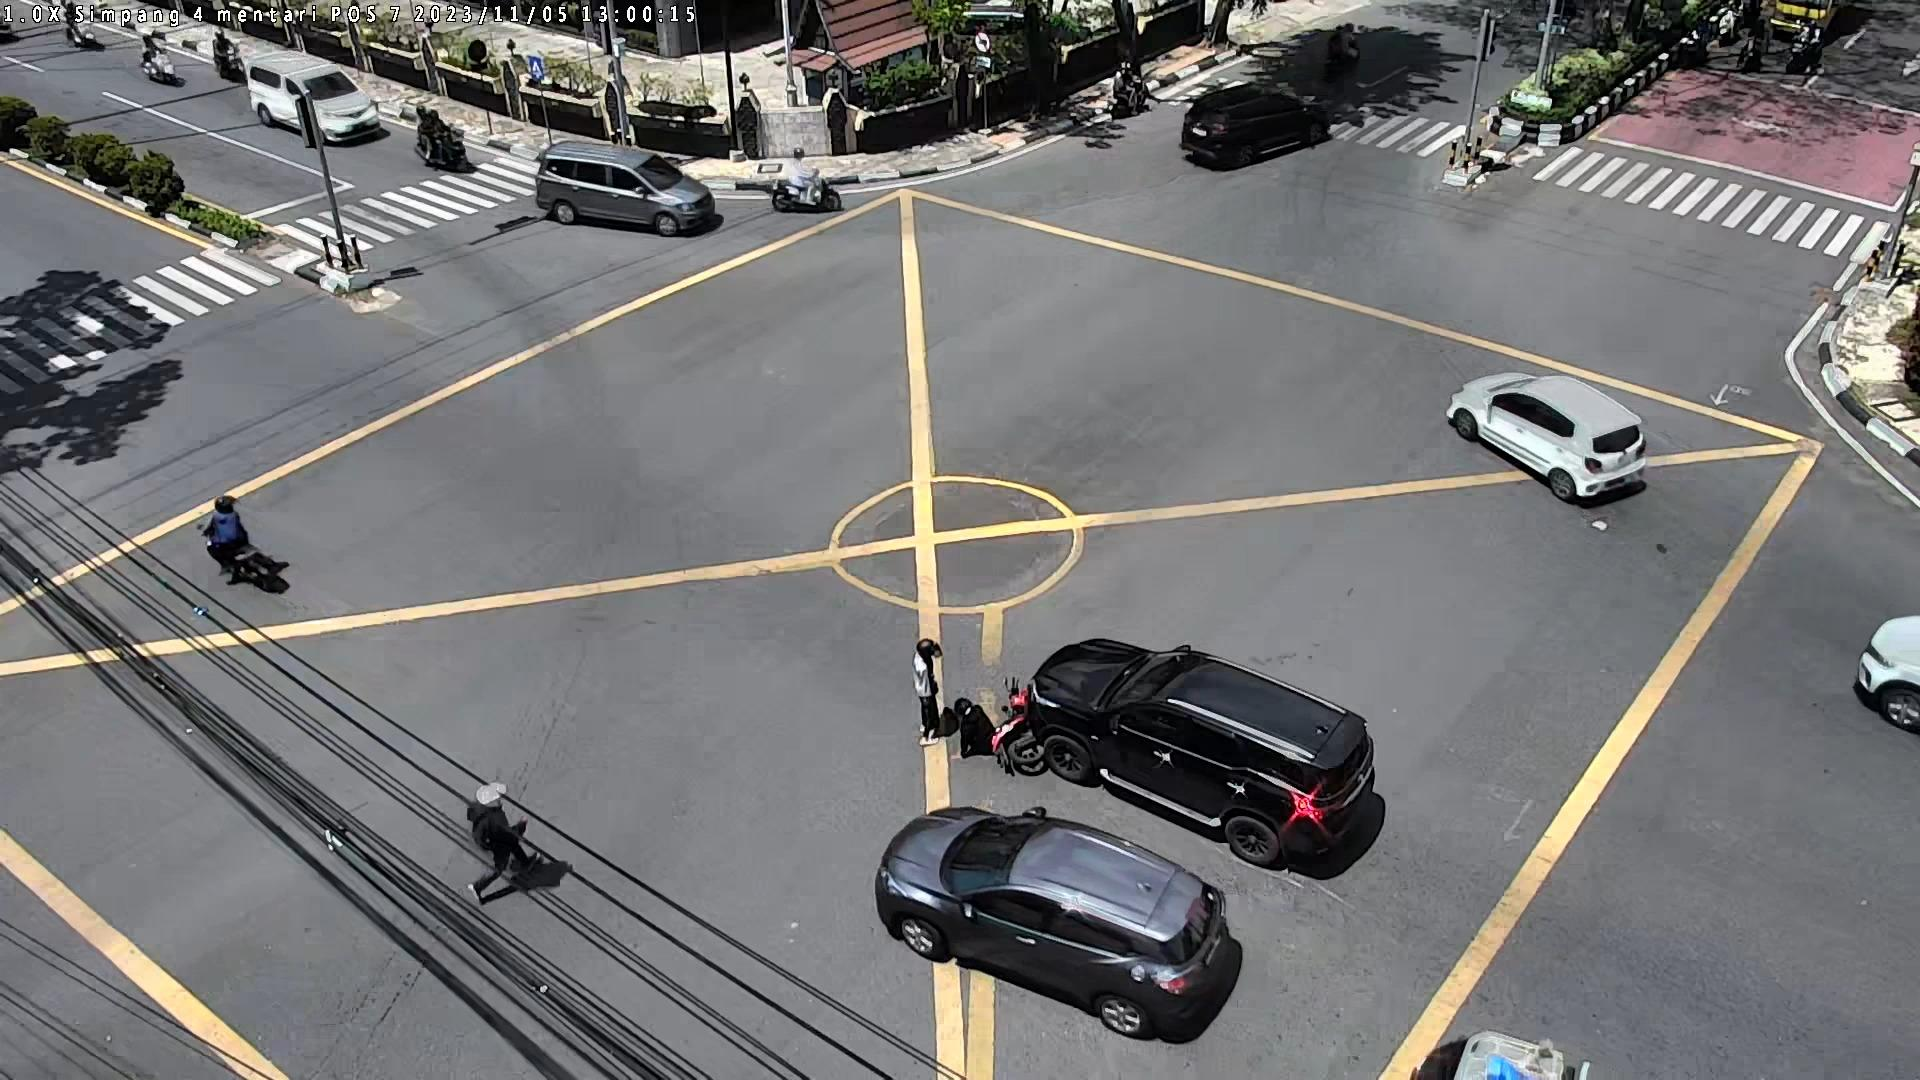accident: (951, 696, 997, 762)
